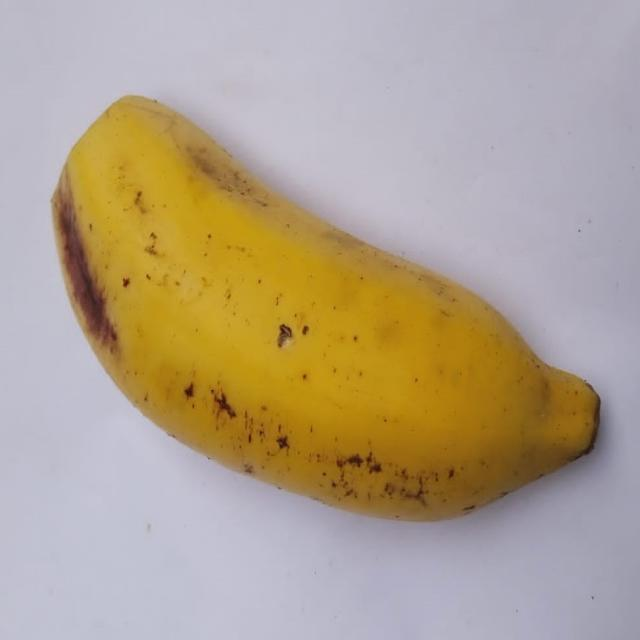banana: (53, 97, 599, 519)
